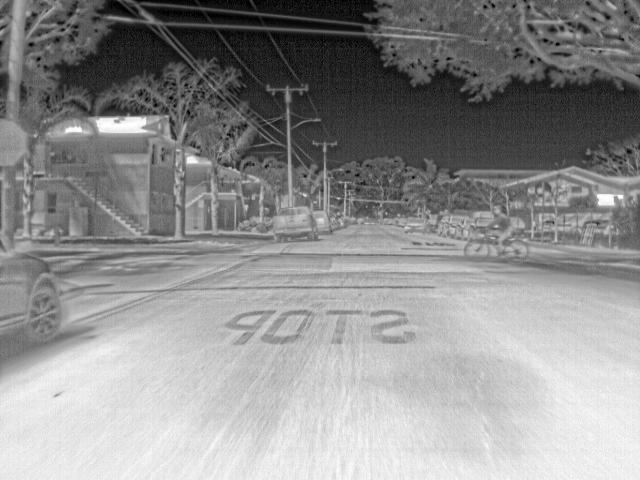car: (1, 236, 64, 344), (273, 203, 317, 242), (590, 209, 613, 234), (312, 208, 333, 234), (404, 216, 431, 234), (440, 211, 458, 238), (470, 215, 491, 237), (536, 211, 556, 233), (575, 208, 594, 230), (455, 213, 470, 240), (558, 211, 577, 231), (427, 213, 443, 233), (511, 215, 526, 235), (330, 212, 344, 229), (341, 214, 355, 227), (382, 215, 398, 226), (394, 215, 406, 227), (355, 215, 368, 226)
person: (488, 203, 511, 243)
